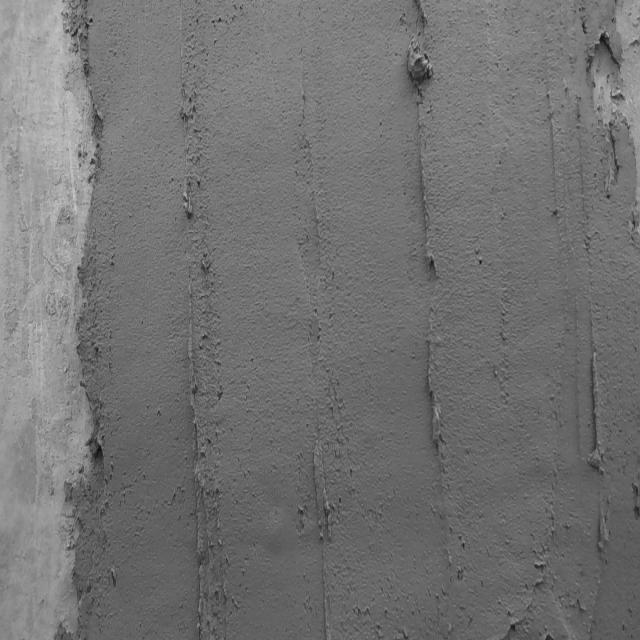trowels marks: (402, 1, 446, 506), (179, 69, 211, 635), (585, 313, 610, 563), (310, 435, 338, 637)
